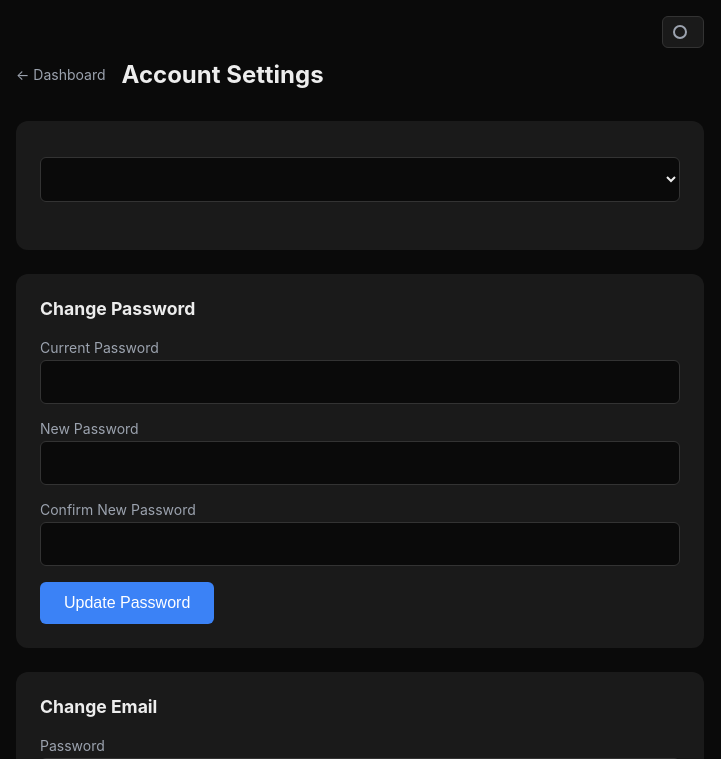
Test: AccountPage › shows error when passwords do not match
The image size is (721, 759).
Type "newpass123" into the password field labelled "New Password". click: (360, 463)
box: [40,441,680,485]
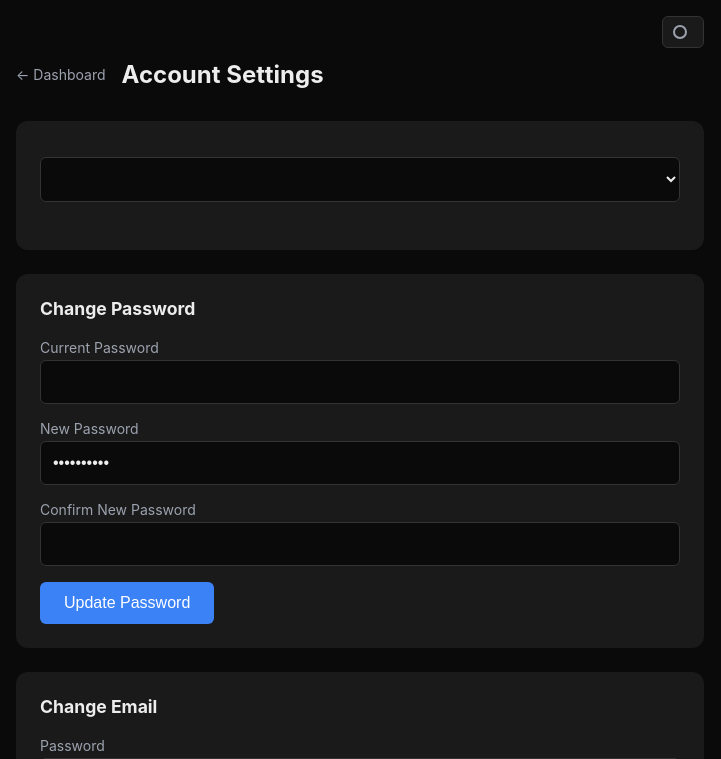
Type "different" into the password field labelled "Confirm New Password". click: (360, 544)
box: [40,522,680,566]
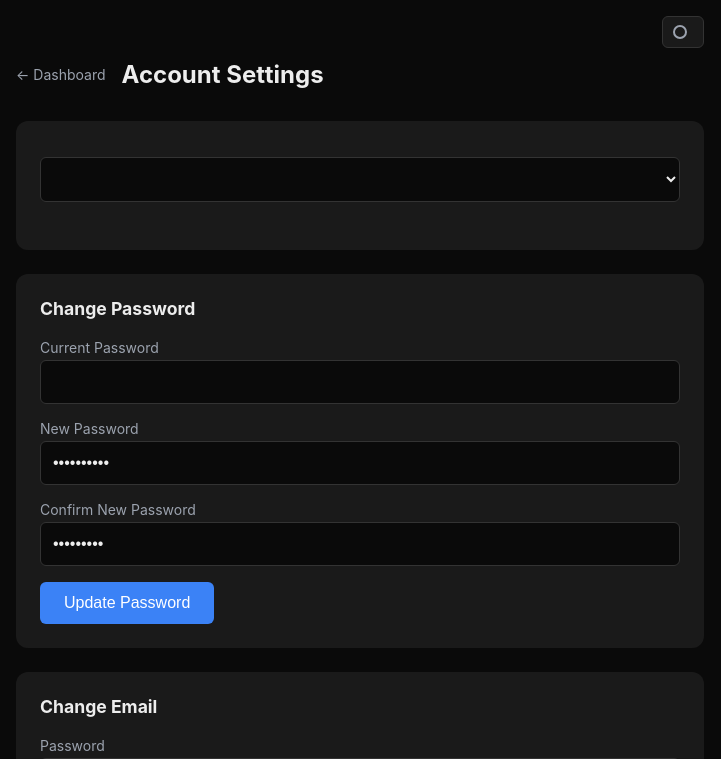
Click the button "Update Password". click: click(127, 603)
box: [40,582,214,624]
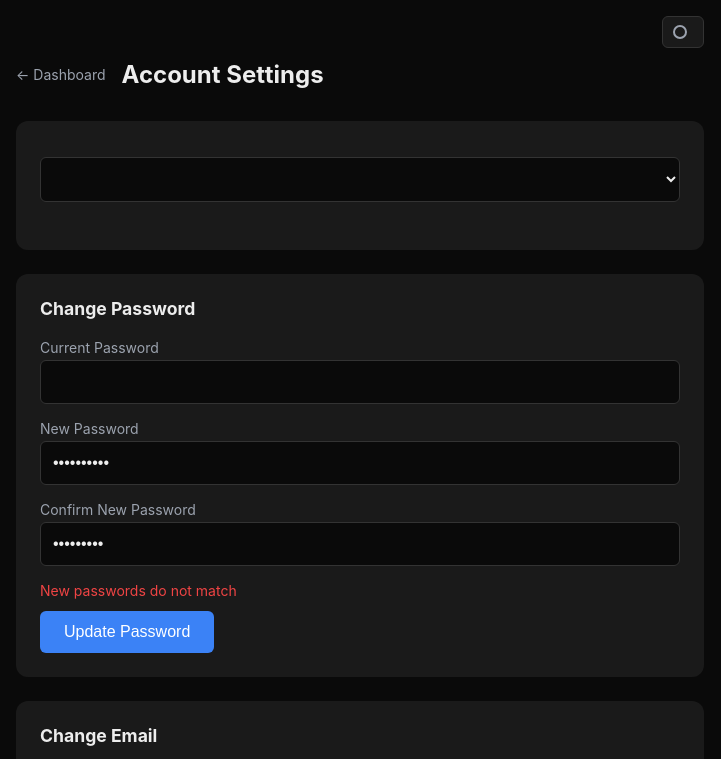
Expected: the text "New passwords do not match" is shown, [40,582,237,599]
